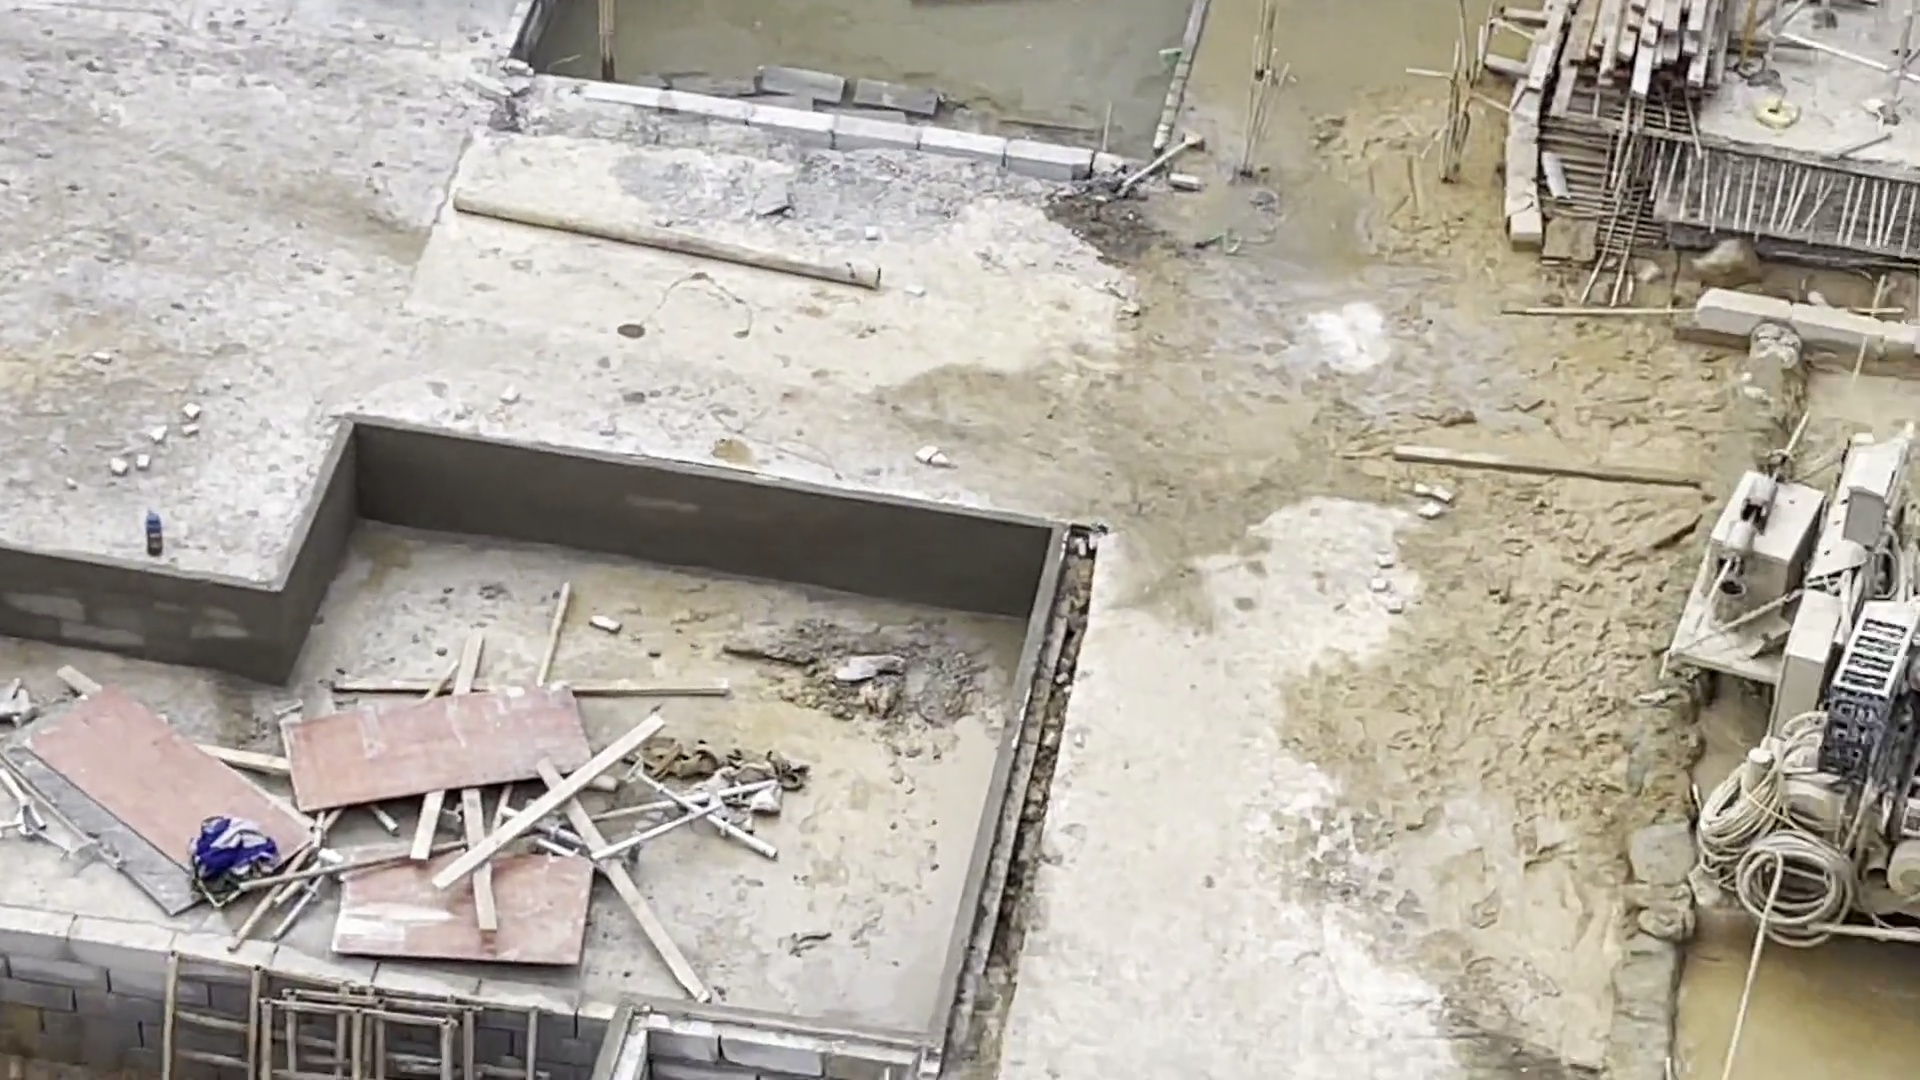wood: (1522, 1, 1713, 99)
